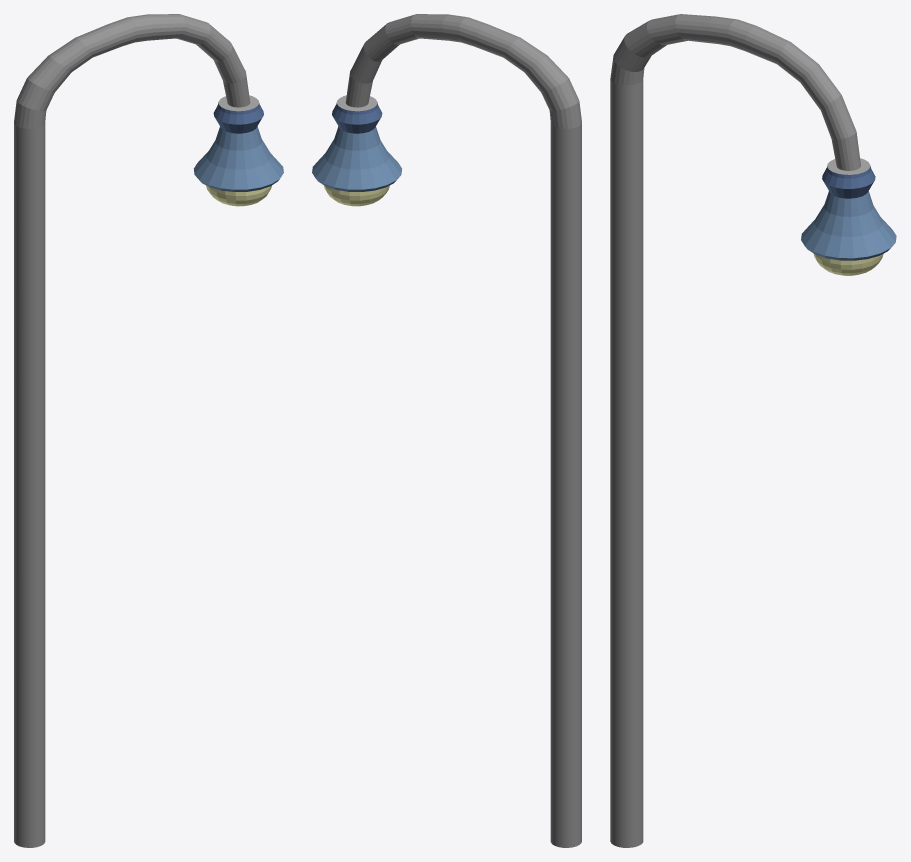
Rendered from Light_pole.fbx.
The picture shows the model from 3 angles, left to right: view 1: azimuth 30°, elevation 25°; view 2: azimuth 150°, elevation 25°; view 3: azimuth 330°, elevation 25°; orthographic projection. The views are drawn at different scales.
Parts seen in each view (by area): view 1: pCylinder1; view 2: pCylinder1; view 3: pCylinder1.
Boxes of the visible parts, x1,y1,x2,y2 form: pCylinder1: (14,14,283,847); pCylinder1: (312,14,581,847); pCylinder1: (610,14,896,847).
Bounding box in the file's own units: 1.16 × 3.39 × 0.3489.
